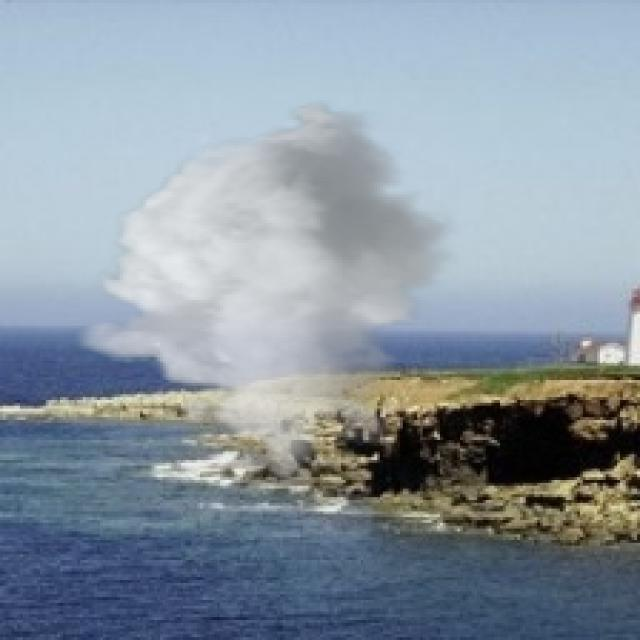Smoke: (71, 100, 460, 486)
